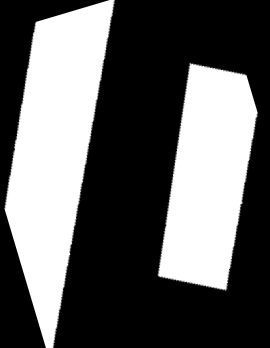parkingspot: (4, 0, 115, 348), (158, 63, 258, 291)
